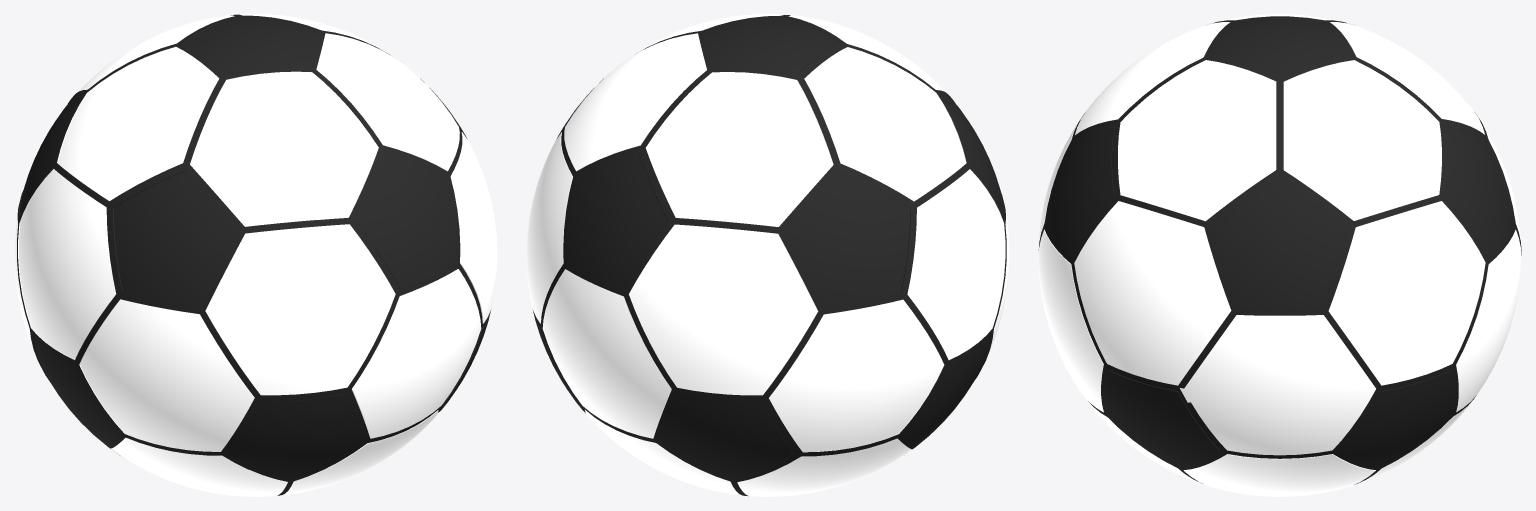
The model's file is soccer_ball.gltf.
3 views of the same model, side by side, from view 1: azimuth 30°, elevation 25°; view 2: azimuth 150°, elevation 25°; view 3: azimuth 270°, elevation 25° (orthographic).
Visible parts, largest first — view 1: Icosphere.014; view 2: Icosphere.014; view 3: Icosphere.014.
Part boxes in pixels (left/top/right/bottom): Icosphere.014: left=14, top=14, right=497, bottom=496; Icosphere.014: left=526, top=14, right=1009, bottom=496; Icosphere.014: left=1038, top=14, right=1521, bottom=496.
Size of the model in its own units: 2.2 by 2.21 by 2.2.
Materials: 1 (1 with a texture image).
